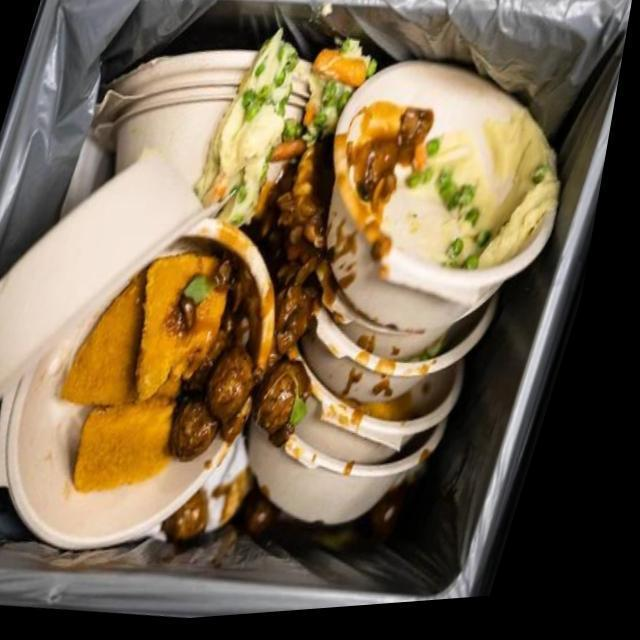Disposable: (0, 55, 287, 552), (265, 69, 568, 532), (7, 313, 243, 552), (290, 69, 313, 123)
Garbage: (0, 36, 582, 568)
contaminated_waste: (337, 68, 568, 339)
